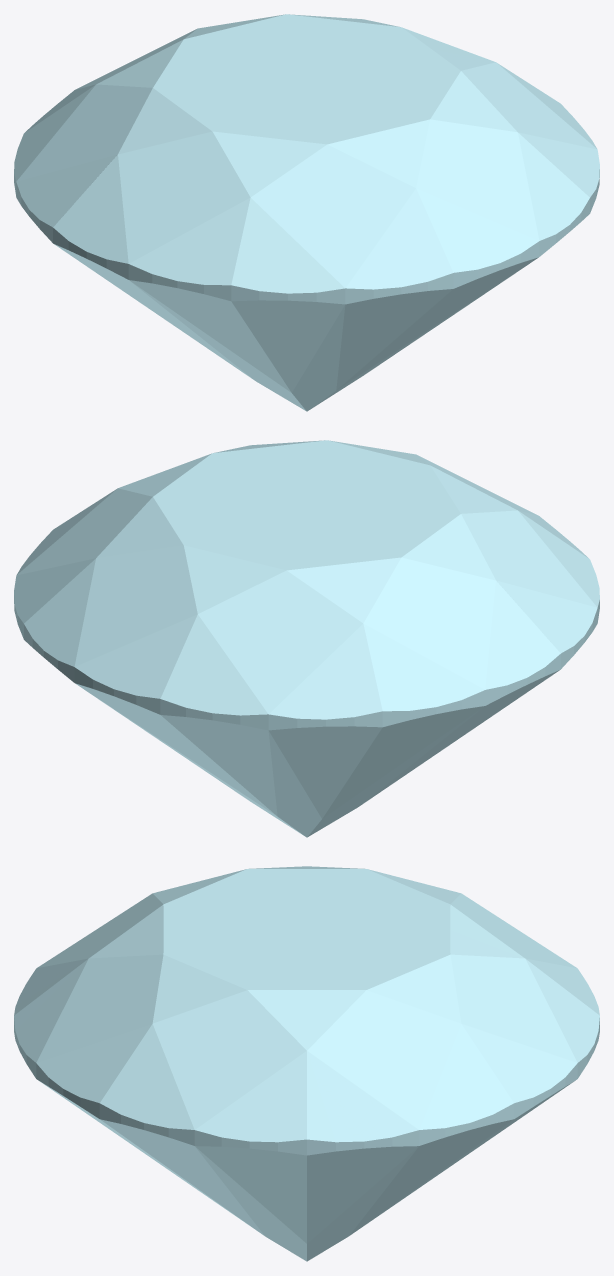
Rendered from RoundAqua.glb.
The picture shows the model from 3 angles, top to bottom: view 1: azimuth 30°, elevation 25°; view 2: azimuth 150°, elevation 25°; view 3: azimuth 270°, elevation 25°; orthographic projection.
Parts seen in each view (by area): view 1: new twist dia for 3d model; view 2: new twist dia for 3d model; view 3: new twist dia for 3d model.
Part boxes in pixels (bbox=[...]): new twist dia for 3d model: bbox=[14, 14, 599, 411]; new twist dia for 3d model: bbox=[14, 440, 599, 837]; new twist dia for 3d model: bbox=[14, 866, 599, 1261].
Bounding box in the file's own units: 7.45 × 4.66 × 7.45.
